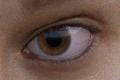eye: (38, 26, 71, 54)
